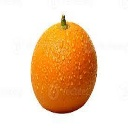orange: (29, 14, 99, 114)
